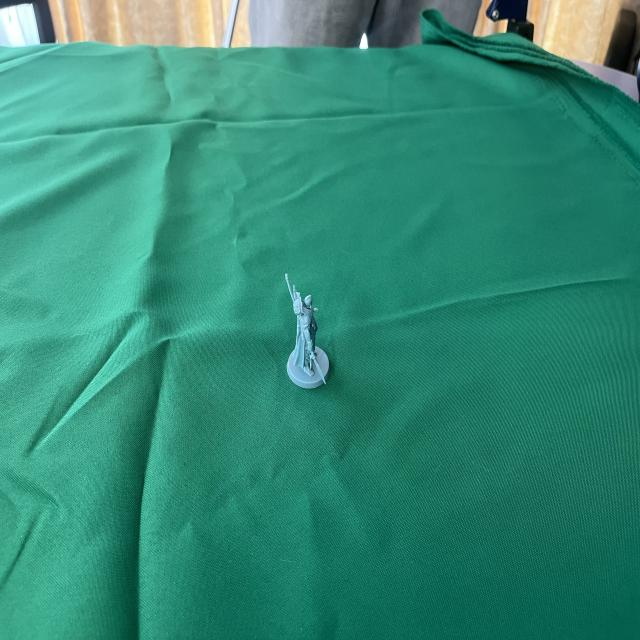isis_follower: (276, 262, 338, 388)
